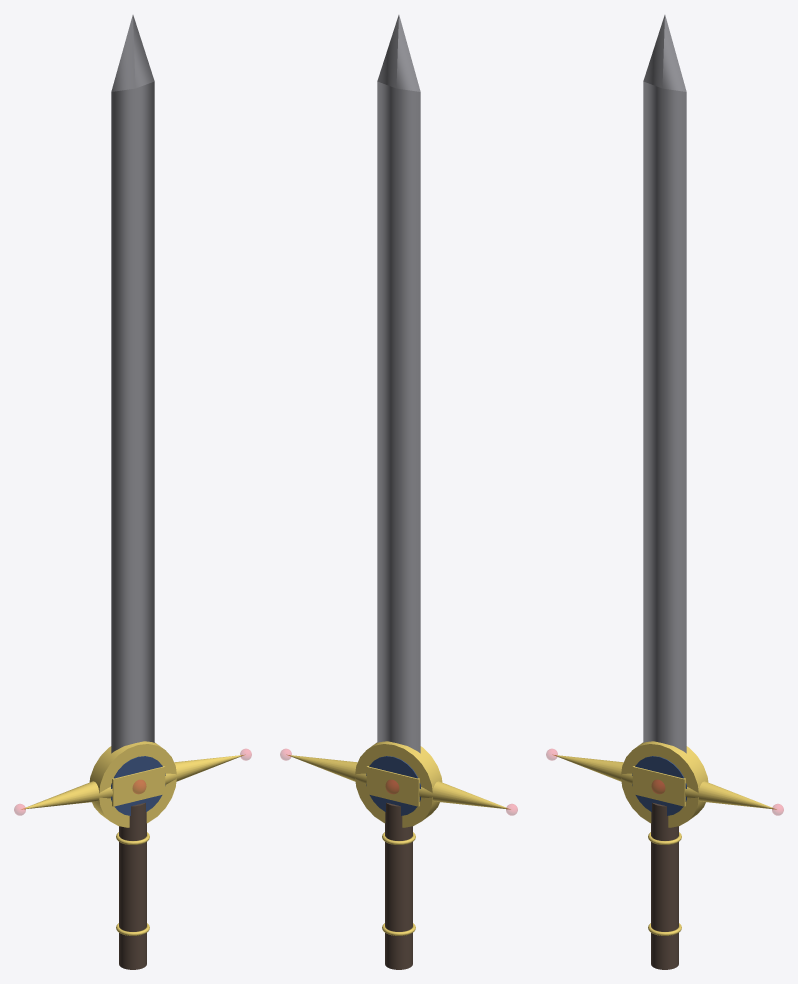
File: sword.glb
The picture shows the model from 3 angles, left to right: view 1: azimuth 30°, elevation 25°; view 2: azimuth 150°, elevation 25°; view 3: azimuth 330°, elevation 25°; orthographic projection.
Parts seen in each view (by area): view 1: b_main, grip, p_disc, b_tip, cg_center, cg_arm_l, p_enamel, cg_arm_r; view 2: b_main, grip, p_disc, b_tip, cg_center, cg_arm_l, p_enamel, cg_arm_r; view 3: b_main, grip, p_disc, b_tip, cg_center, cg_arm_r, p_enamel, cg_arm_l.
Part boxes in pixels (<box>): b_main: <box>111,81,154,753</box>; grip: <box>119,802,146,969</box>; p_disc: <box>89,741,176,827</box>; b_tip: <box>111,15,154,91</box>; cg_center: <box>112,766,165,806</box>; cg_arm_l: <box>21,781,112,809</box>; p_enamel: <box>111,756,165,815</box>; cg_arm_r: <box>165,754,245,784</box>; b_main: <box>377,81,420,753</box>; grip: <box>385,802,412,969</box>; p_disc: <box>355,741,442,827</box>; b_tip: <box>377,15,420,91</box>; cg_center: <box>366,766,419,806</box>; cg_arm_l: <box>419,781,510,809</box>; p_enamel: <box>366,756,420,815</box>; cg_arm_r: <box>286,754,366,784</box>; b_main: <box>643,81,686,753</box>; grip: <box>651,802,678,969</box>; p_disc: <box>621,741,708,827</box>; b_tip: <box>643,15,686,91</box>; cg_center: <box>632,766,685,806</box>; cg_arm_r: <box>685,781,776,809</box>; p_enamel: <box>632,756,686,815</box>; cg_arm_l: <box>552,754,632,784</box>.
Bounding box in the file's own units: 0.272 × 1.04 × 0.038.
